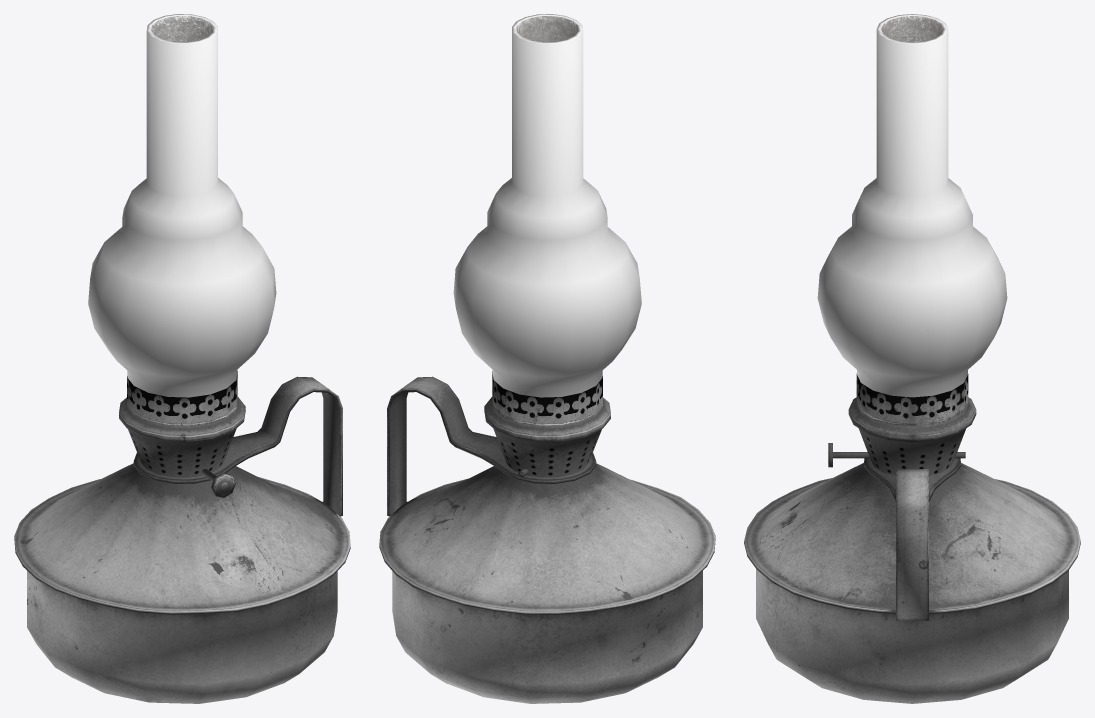
The model's file is oil.fbx.
3 views of the same model, side by side, from view 1: azimuth 30°, elevation 25°; view 2: azimuth 150°, elevation 25°; view 3: azimuth 270°, elevation 25° (orthographic).
Visible parts, largest first — view 1: oil_lamp_glass_lp1; view 2: oil_lamp_glass_lp1; view 3: oil_lamp_glass_lp1.
Part boxes in pixels (<box>): oil_lamp_glass_lp1: <box>14,14,350,703</box>; oil_lamp_glass_lp1: <box>379,14,715,703</box>; oil_lamp_glass_lp1: <box>744,14,1080,703</box>.
Size of the model in its own units: 15.33 by 30.9 by 15.02.
